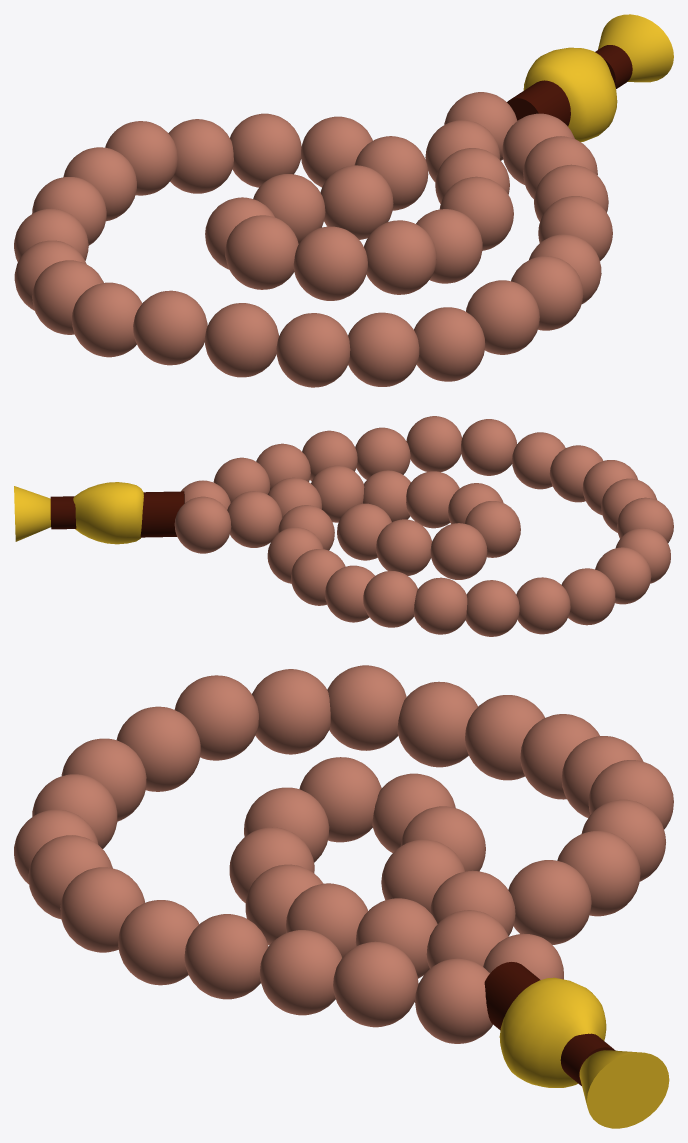
The model's file is prayer_beads.fbx.
3 renders of one model, top to bottom at view 1: azimuth 30°, elevation 25°; view 2: azimuth 150°, elevation 25°; view 3: azimuth 270°, elevation 25°, orthographic. The views are drawn at different scales.
Parts seen in each view (by area): view 1: Prayer Beads; view 2: Prayer Beads; view 3: Prayer Beads.
Part boxes in pixels (x1,y1,x2,y2): Prayer Beads: (14,14,673,387); Prayer Beads: (14,416,673,636); Prayer Beads: (14,665,673,1128).
Bounding box in the file's own units: 566 × 61.59 × 386.
